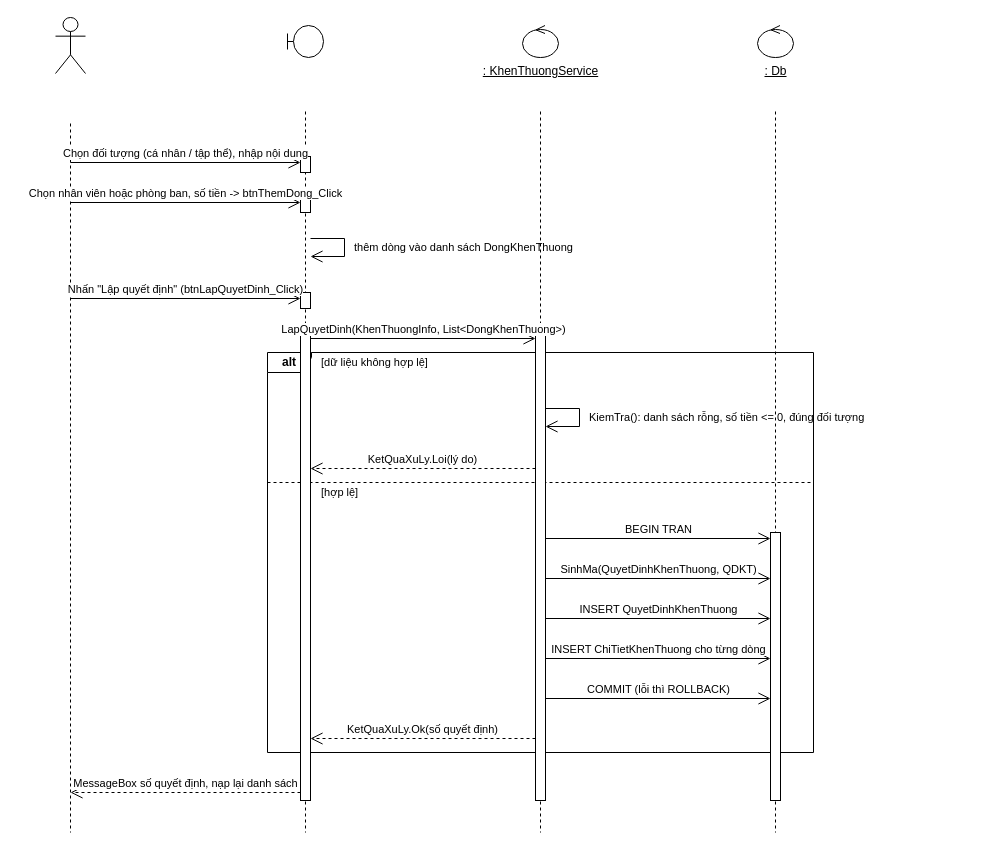
The diagram is 983 pixels wide and 851 high, and some of its shapes have lost their labels. Each missing label, with the centre of its shape:
": FrmKhenThuong" goes at (x=305, y=41).
": NV phòng nhân sự" goes at (x=70, y=45).
